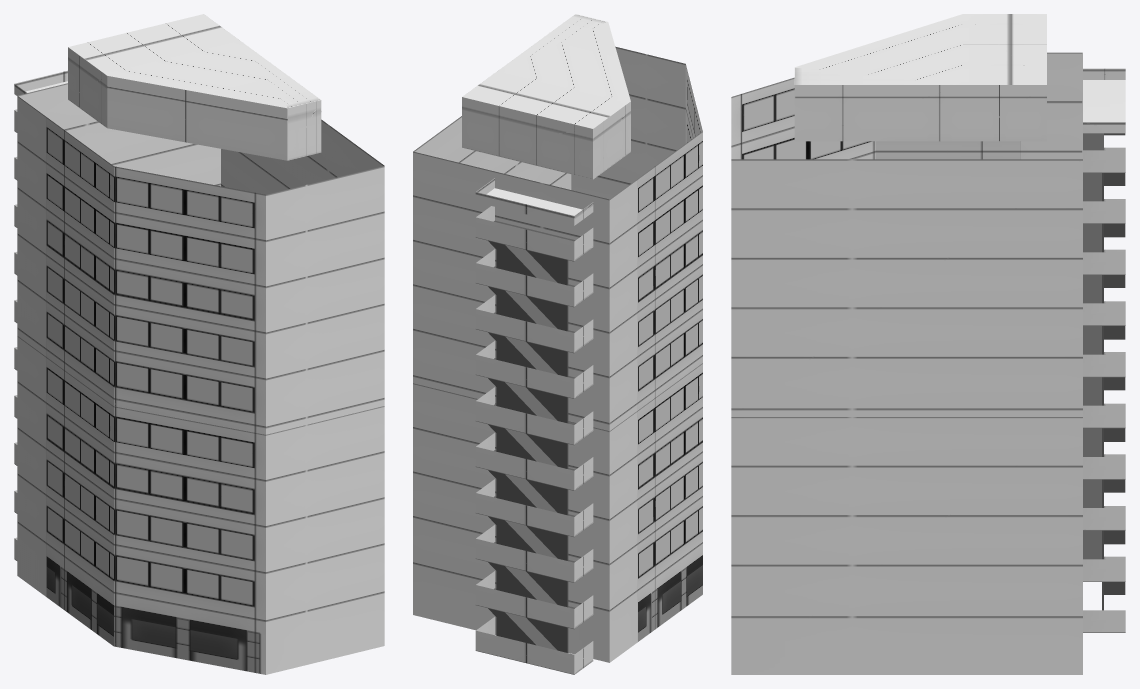
Rendered from buil_02.fbx.
The picture shows the model from 3 angles, left to right: view 1: azimuth 30°, elevation 25°; view 2: azimuth 150°, elevation 25°; view 3: azimuth 270°, elevation 25°; orthographic projection. The views are drawn at different scales.
Visible parts, largest first — view 1: polySurface18, polySurface19; view 2: polySurface18, polySurface19, polySurface17; view 3: polySurface18, polySurface19, polySurface17.
Boxes of the visible parts, x1=… form: polySurface18: x1=17, y1=14, x2=384, y2=674; polySurface19: x1=14, y1=70, x2=67, y2=560; polySurface18: x1=413, y1=14, x2=702, y2=662; polySurface19: x1=475, y1=178, x2=593, y2=674; polySurface17: x1=488, y1=220, x2=575, y2=652; polySurface18: x1=731, y1=14, x2=1082, y2=674; polySurface19: x1=1083, y1=68, x2=1125, y2=632; polySurface17: x1=1083, y1=133, x2=1125, y2=610.
Size of the model in its own units: 12 by 30.12 by 18.73.
